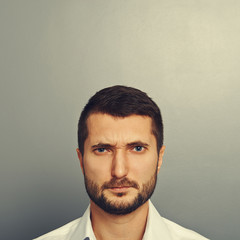young: (77, 80, 170, 211)
